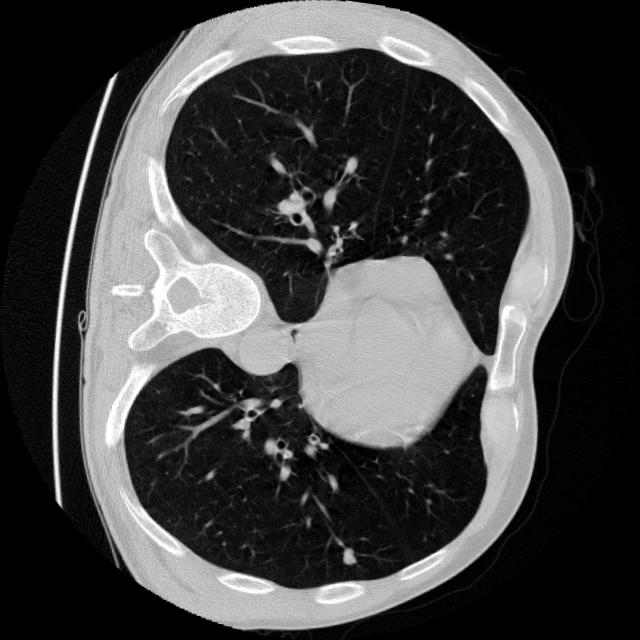nodule: (330, 536, 370, 576)
